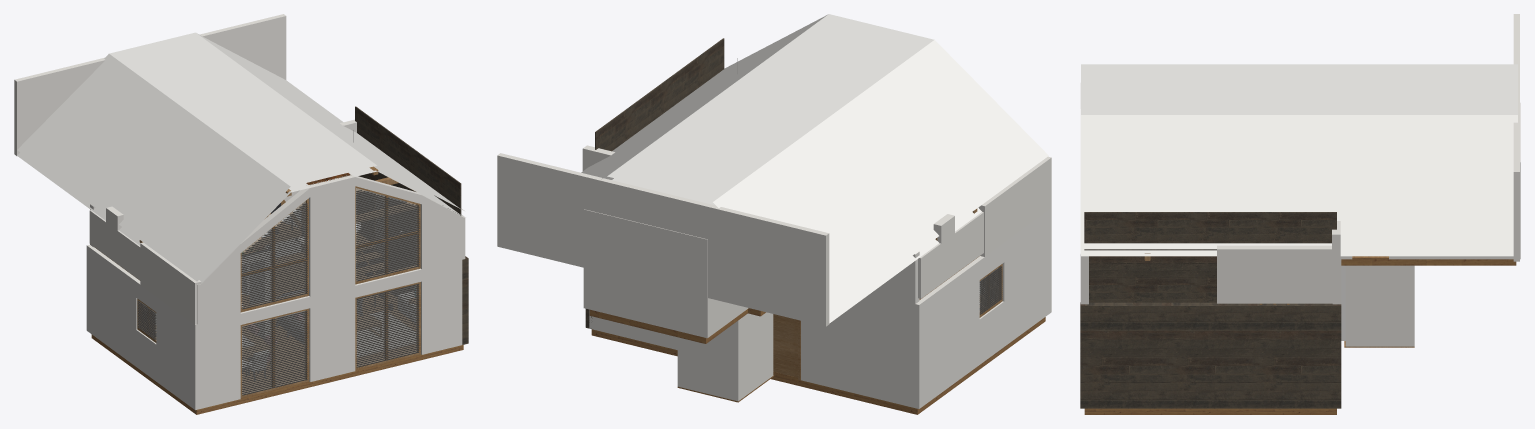
The model's file is room_3d.glb.
3 views of the same model, side by side, from view 1: azimuth 30°, elevation 25°; view 2: azimuth 150°, elevation 25°; view 3: azimuth 270°, elevation 25° (orthographic). The views are drawn at different scales.
Parts seen in each view (by area): view 1: Ceiling_Mansard, SouthWall_CenterBack, wall_AAD1C76E_146A_489C_B497_A51D610F4A01, NorthGable_UpperSeal, SouthWall_FarRight, SouthWall_FarLeft, floor_7BC46501_1A80_41FC_BB65_3EFFCAFC2E59, WestWall_UpperKitchen_Fill, GableWin_L_Glass, GableWin_R_Glass, PatioDoor_Dining_Glass, East_DarkWood_Upper_South (+15 smaller); view 2: Ceiling_Mansard, NorthGable_UpperSeal, wall_AAD1C76E_146A_489C_B497_A51D610F4A01, wall_4317E50D_2E1D_4F12_A6C2_7FA7AD88A8AA, wall_D5D9A6C1_34CB_4C59_AC38_0F6FFD2DBE00, WestWall_UpperKitchen_Fill, NorthHall_BackWall, wall_287A20F7_F289_4137_9738_B76F43F4C340, East_DarkWood_Upper_South, NorthHall_LeftWall, floor_7BC46501_1A80_41FC_BB65_3EFFCAFC2E59, NorthDoor_OakLeaf (+5 smaller); view 3: Ceiling_Mansard, wall_B02EE1A3_31B1_412E_94FD_304E97046A26, East_DarkWood_Upper_South, wall_164F1DA3_FB8D_4CB5_B686_DF5C2D00F263, NorthHall_RightWall, floor_7BC46501_1A80_41FC_BB65_3EFFCAFC2E59, East_DarkWood_Upper_North, NorthGable_UpperSeal, floor_653D7722_0803_471D_9A16_6F1E16243297, East_DarkWood_Upper_MidAboveWin, wall_59FB841E_4059_45F0_A73E_AC53E2497C0C, wall_9F5EE80E_A1CE_4CEA_8B90_6CE8D428BD02 (+2 smaller).
Part boxes in pixels (x1,y1,x2,y2): Ceiling_Mansard: (17, 32, 464, 282); SouthWall_CenterBack: (307, 174, 355, 381); wall_AAD1C76E_146A_489C_B497_A51D610F4A01: (86, 244, 197, 410); NorthGable_UpperSeal: (14, 14, 286, 156); SouthWall_FarRight: (420, 215, 465, 354); SouthWall_FarLeft: (197, 274, 240, 409); floor_7BC46501_1A80_41FC_BB65_3EFFCAFC2E59: (91, 274, 463, 414); WestWall_UpperKitchen_Fill: (140, 242, 201, 324); GableWin_L_Glass: (241, 201, 305, 308); GableWin_R_Glass: (356, 188, 417, 280); PatioDoor_Dining_Glass: (242, 311, 305, 394); East_DarkWood_Upper_South: (387, 130, 461, 225); Ceiling_Mansard: (581, 14, 1048, 323); NorthGable_UpperSeal: (497, 153, 829, 326); wall_AAD1C76E_146A_489C_B497_A51D610F4A01: (911, 208, 1051, 408); wall_4317E50D_2E1D_4F12_A6C2_7FA7AD88A8AA: (583, 209, 711, 337); wall_D5D9A6C1_34CB_4C59_AC38_0F6FFD2DBE00: (801, 251, 919, 407); WestWall_UpperKitchen_Fill: (978, 156, 1051, 256); NorthHall_BackWall: (677, 319, 740, 401); wall_287A20F7_F289_4137_9738_B76F43F4C340: (918, 212, 983, 298); East_DarkWood_Upper_South: (634, 38, 724, 133); NorthHall_LeftWall: (734, 312, 773, 400); floor_7BC46501_1A80_41FC_BB65_3EFFCAFC2E59: (591, 317, 1045, 414); NorthDoor_OakLeaf: (773, 314, 797, 377); Ceiling_Mansard: (1081, 64, 1517, 256); wall_B02EE1A3_31B1_412E_94FD_304E97046A26: (1080, 302, 1341, 408); East_DarkWood_Upper_South: (1084, 212, 1259, 302); wall_164F1DA3_FB8D_4CB5_B686_DF5C2D00F263: (1217, 245, 1339, 303); NorthHall_RightWall: (1345, 265, 1414, 346); floor_7BC46501_1A80_41FC_BB65_3EFFCAFC2E59: (1084, 408, 1336, 414); East_DarkWood_Upper_North: (1289, 212, 1336, 243); NorthGable_UpperSeal: (1513, 14, 1519, 261); floor_653D7722_0803_471D_9A16_6F1E16243297: (1341, 256, 1516, 265); East_DarkWood_Upper_MidAboveWin: (1259, 212, 1290, 243); wall_59FB841E_4059_45F0_A73E_AC53E2497C0C: (1332, 221, 1340, 303); wall_9F5EE80E_A1CE_4CEA_8B90_6CE8D428BD02: (1341, 162, 1520, 259).
Bounding box in the file's own units: 8.9 × 6.37 × 10.23.
40 materials, 11 textured.
